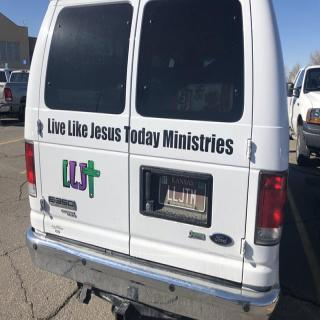license: (160, 175, 207, 214)
